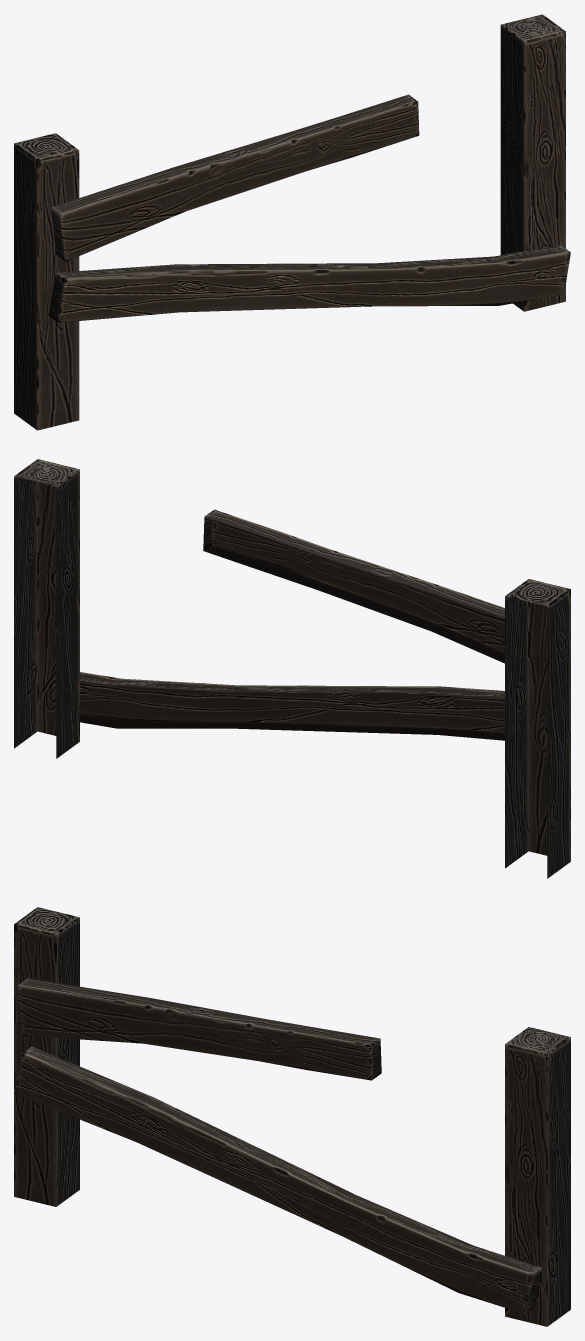
Rendered from fence3.fbx.
3 renders of one model, top to bottom at view 1: azimuth 30°, elevation 25°; view 2: azimuth 150°, elevation 25°; view 3: azimuth 330°, elevation 25°, orthographic.
Visible parts, largest first — view 1: fence_03; view 2: fence_03; view 3: fence_03.
Part boxes in pixels (x1,y1,x2,y2): fence_03: (14,14,570,430); fence_03: (14,459,570,878); fence_03: (14,907,570,1326).
Size of the model in its own units: 119 by 58.04 by 14.47.
1 material, 1 textured.
